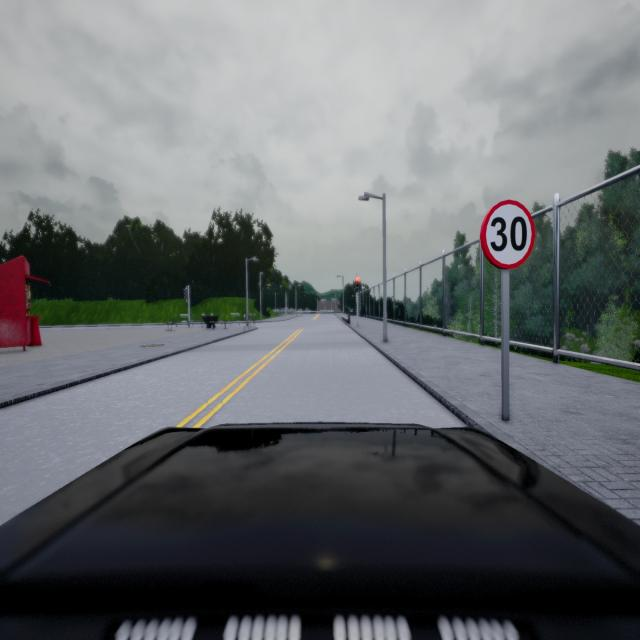Speed Limit -30-: (480, 201, 535, 270)
